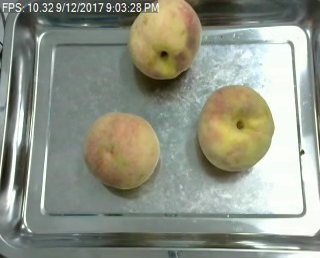Peach: (198, 83, 274, 172), (126, 0, 204, 79), (83, 110, 160, 190)
